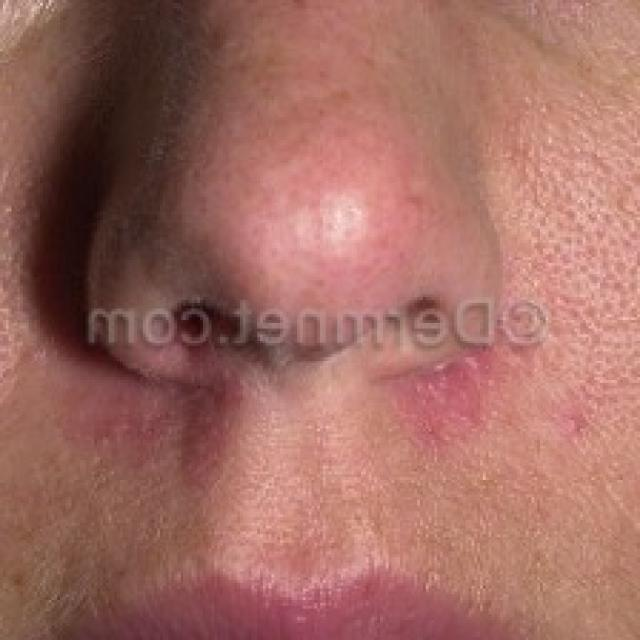Acne: (186, 148, 403, 298)
